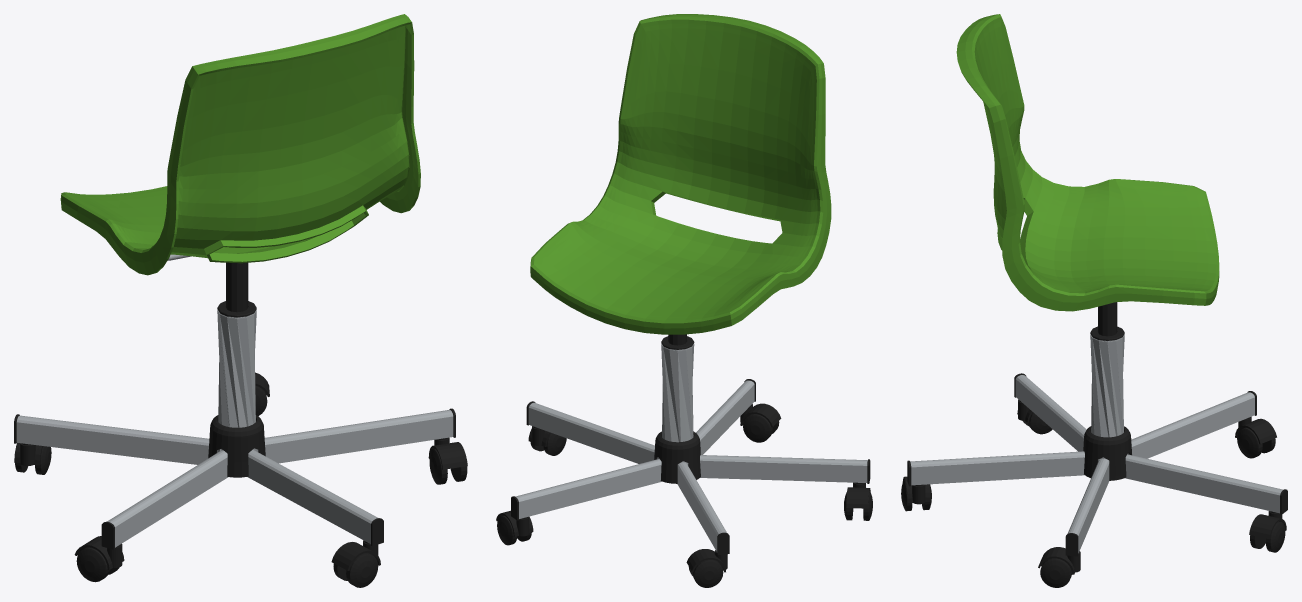
3 renders of one model, left to right at view 1: azimuth 30°, elevation 25°; view 2: azimuth 150°, elevation 25°; view 3: azimuth 270°, elevation 25°, orthographic. The views are drawn at different scales.
Visible parts, largest first — view 1: Mesh2 Group2 SNILLE_IKEA1 Model, Mesh8 Group6 SNILLE_IKEA1 Model, Mesh7 Group5 SNILLE_IKEA1 Model, Mesh1 Group1 SNILLE_IKEA1 Model, Mesh3 Group3 SNILLE_IKEA1 Model, Mesh11 ROULETTE1 SNILLE_IKEA1 Model, Mesh20 ROULETTE4 SNILLE_IKEA1 Model, Mesh12 ROULETTE2 SNILLE_IKEA1 Model, Mesh18 ROULETTE4 SNILLE_IKEA1 Model, Mesh9 ROULETTE1 SNILLE_IKEA1 Model; view 2: Mesh2 Group2 SNILLE_IKEA1 Model, Mesh8 Group6 SNILLE_IKEA1 Model, Mesh7 Group5 SNILLE_IKEA1 Model, Mesh1 Group1 SNILLE_IKEA1 Model, Mesh23 ROULETTE5 SNILLE_IKEA1 Model, Mesh19 ROULETTE4 SNILLE_IKEA1 Model, Mesh9 ROULETTE1 SNILLE_IKEA1 Model, Mesh21 ROULETTE5 SNILLE_IKEA1 Model, Mesh18 ROULETTE4 SNILLE_IKEA1 Model; view 3: Mesh2 Group2 SNILLE_IKEA1 Model, Mesh8 Group6 SNILLE_IKEA1 Model, Mesh7 Group5 SNILLE_IKEA1 Model, Mesh1 Group1 SNILLE_IKEA1 Model, Mesh3 Group3 SNILLE_IKEA1 Model, Mesh14 ROULETTE2 SNILLE_IKEA1 Model, Mesh15 ROULETTE3 SNILLE_IKEA1 Model, Mesh21 ROULETTE5 SNILLE_IKEA1 Model, Mesh22 ROULETTE5 SNILLE_IKEA1 Model, Mesh12 ROULETTE2 SNILLE_IKEA1 Model.
Boxes of the visible parts, x1,y1,x2,y2 form: Mesh2 Group2 SNILLE_IKEA1 Model: (60, 14, 420, 275); Mesh8 Group6 SNILLE_IKEA1 Model: (14, 408, 455, 549); Mesh7 Group5 SNILLE_IKEA1 Model: (217, 310, 256, 427); Mesh1 Group1 SNILLE_IKEA1 Model: (208, 415, 265, 477); Mesh3 Group3 SNILLE_IKEA1 Model: (217, 262, 256, 317); Mesh11 ROULETTE1 SNILLE_IKEA1 Model: (76, 547, 109, 582); Mesh20 ROULETTE4 SNILLE_IKEA1 Model: (346, 552, 378, 587); Mesh12 ROULETTE2 SNILLE_IKEA1 Model: (428, 437, 467, 469); Mesh18 ROULETTE4 SNILLE_IKEA1 Model: (331, 540, 380, 570); Mesh9 ROULETTE1 SNILLE_IKEA1 Model: (74, 536, 124, 569); Mesh2 Group2 SNILLE_IKEA1 Model: (530, 14, 831, 334); Mesh8 Group6 SNILLE_IKEA1 Model: (511, 379, 870, 554); Mesh7 Group5 SNILLE_IKEA1 Model: (661, 343, 694, 442); Mesh1 Group1 SNILLE_IKEA1 Model: (654, 431, 700, 483); Mesh23 ROULETTE5 SNILLE_IKEA1 Model: (693, 559, 723, 587); Mesh19 ROULETTE4 SNILLE_IKEA1 Model: (743, 414, 772, 442); Mesh9 ROULETTE1 SNILLE_IKEA1 Model: (846, 482, 870, 508); Mesh21 ROULETTE5 SNILLE_IKEA1 Model: (686, 549, 727, 572); Mesh18 ROULETTE4 SNILLE_IKEA1 Model: (740, 403, 781, 427); Mesh2 Group2 SNILLE_IKEA1 Model: (956, 14, 1219, 311); Mesh8 Group6 SNILLE_IKEA1 Model: (907, 373, 1287, 556); Mesh7 Group5 SNILLE_IKEA1 Model: (1090, 334, 1124, 437); Mesh1 Group1 SNILLE_IKEA1 Model: (1083, 426, 1131, 480); Mesh3 Group3 SNILLE_IKEA1 Model: (1090, 302, 1124, 340); Mesh14 ROULETTE2 SNILLE_IKEA1 Model: (1040, 558, 1071, 587); Mesh15 ROULETTE3 SNILLE_IKEA1 Model: (1249, 511, 1286, 539); Mesh21 ROULETTE5 SNILLE_IKEA1 Model: (1235, 416, 1276, 444); Mesh22 ROULETTE5 SNILLE_IKEA1 Model: (1237, 427, 1262, 458); Mesh12 ROULETTE2 SNILLE_IKEA1 Model: (1038, 547, 1080, 574).
Bounding box in the file's own units: 0.5972 × 0.756 × 0.5816.
